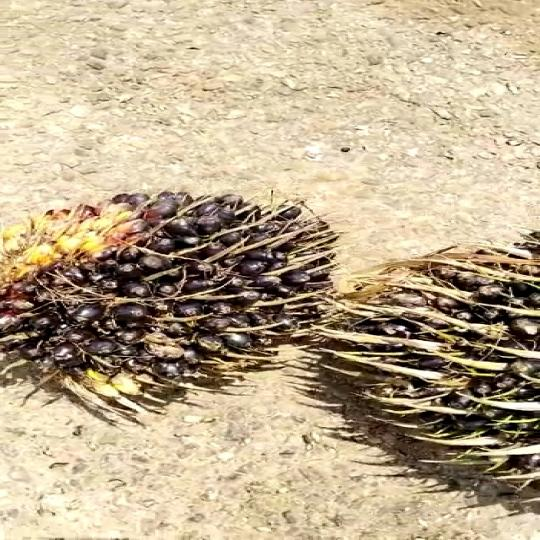mentah: (0, 178, 336, 414), (322, 224, 538, 517)
